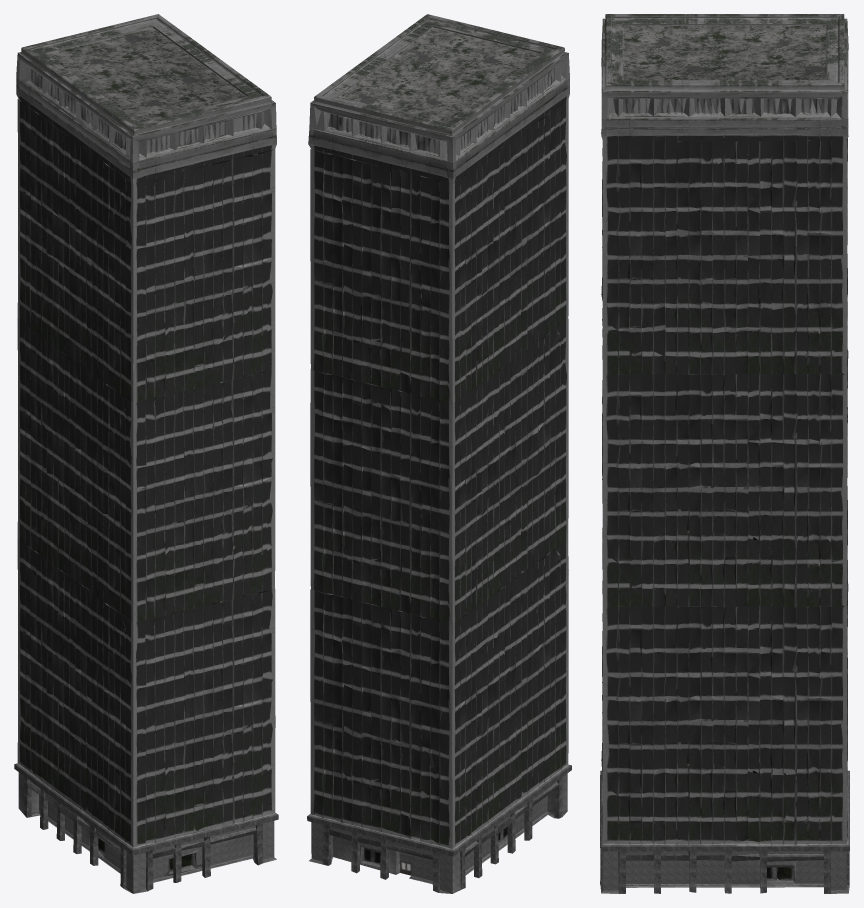
File: SM_Dist_Build4_3.fbx
3 renders of one model, left to right at view 1: azimuth 30°, elevation 25°; view 2: azimuth 150°, elevation 25°; view 3: azimuth 270°, elevation 25°, orthographic. The views are drawn at different scales.
Visible parts, largest first — view 1: SM_Dist_Build4_3_LOD0; view 2: SM_Dist_Build4_3_LOD0; view 3: SM_Dist_Build4_3_LOD0.
Part boxes in pixels (left/top/right/bottom): SM_Dist_Build4_3_LOD0: left=14, top=14, right=278, bottom=893; SM_Dist_Build4_3_LOD0: left=307, top=14, right=571, bottom=893; SM_Dist_Build4_3_LOD0: left=600, top=14, right=849, bottom=893.
Size of the model in its own units: 3593 by 5009 by 17879.
1 material, 1 textured.
